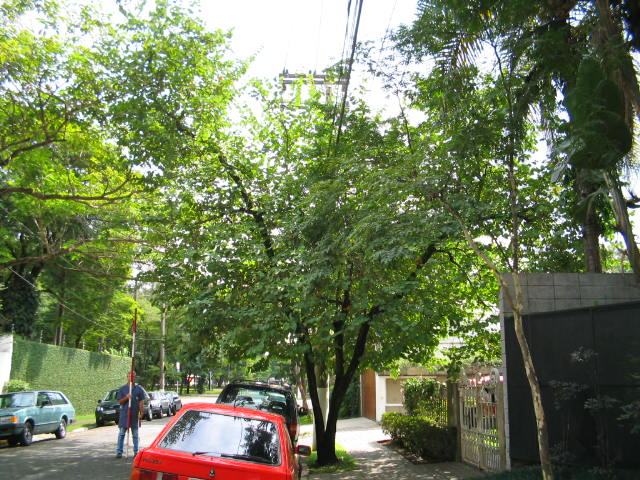crown: (130, 71, 558, 380)
stem: (304, 424, 346, 467)
stick: (120, 306, 142, 460)
tree: (127, 68, 560, 468)
